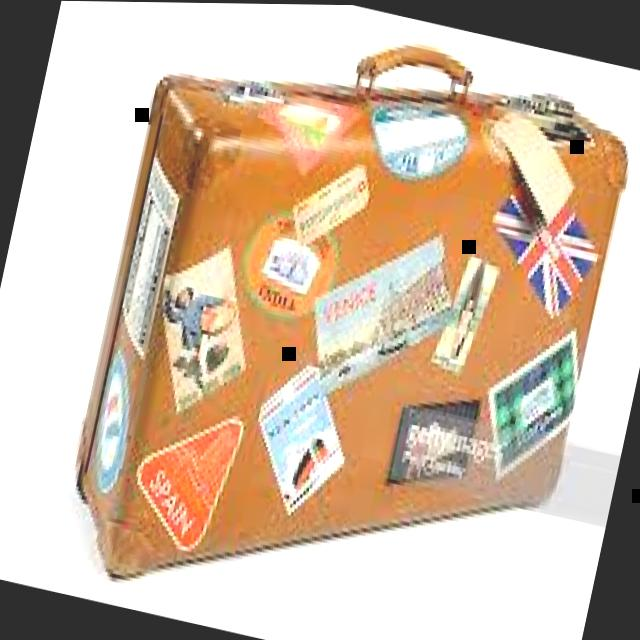luggage: (48, 1, 640, 640)
